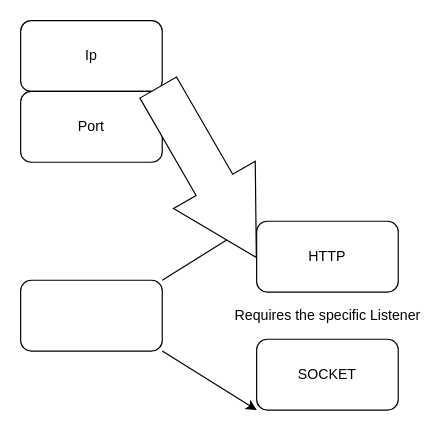
This 448x440 diagram has some shape labels left out. Each missing label, with the centre of its shape:
Config: the point at 206,172
Creation: the point at 90,315
